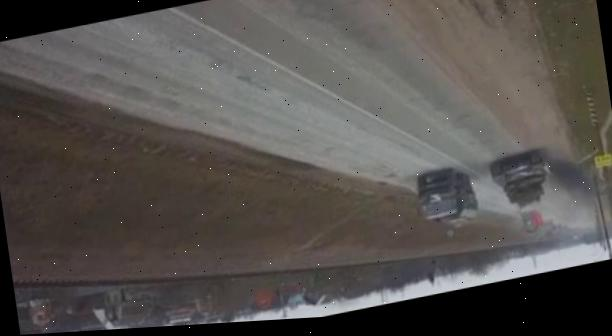tank: (488, 147, 553, 213)
truck: (414, 163, 481, 235), (517, 205, 548, 237), (537, 217, 557, 243)
